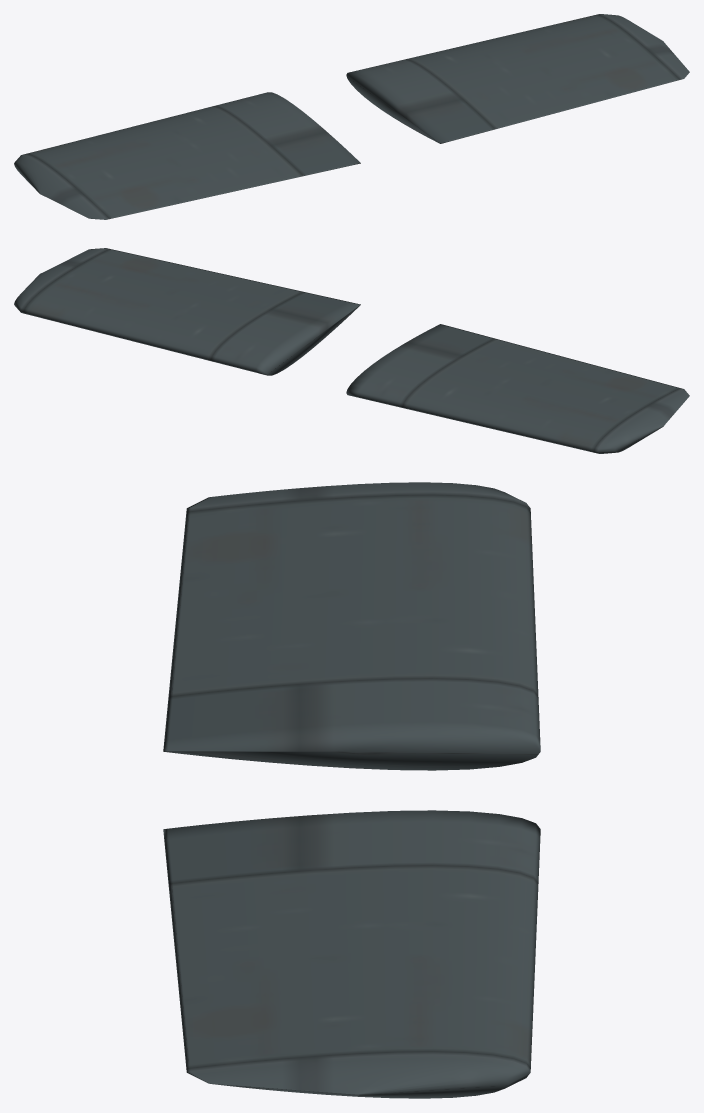
The model's file is bowPlanes.obj.
3 renders of one model, top to bottom at view 1: azimuth 30°, elevation 25°; view 2: azimuth 150°, elevation 25°; view 3: azimuth 270°, elevation 25°, orthographic. The views are drawn at different scales.
Visible parts, largest first — view 1: bowPlanes; view 2: bowPlanes; view 3: bowPlanes.
Part boxes in pixels (left/top/right/bottom): bowPlanes: left=14, top=14, right=689, bottom=219; bowPlanes: left=14, top=248, right=689, bottom=453; bowPlanes: left=163, top=482, right=540, bottom=1098.
Size of the model in its own units: 5.5 by 0.1585 by 1.44.
1 material, 1 textured.
